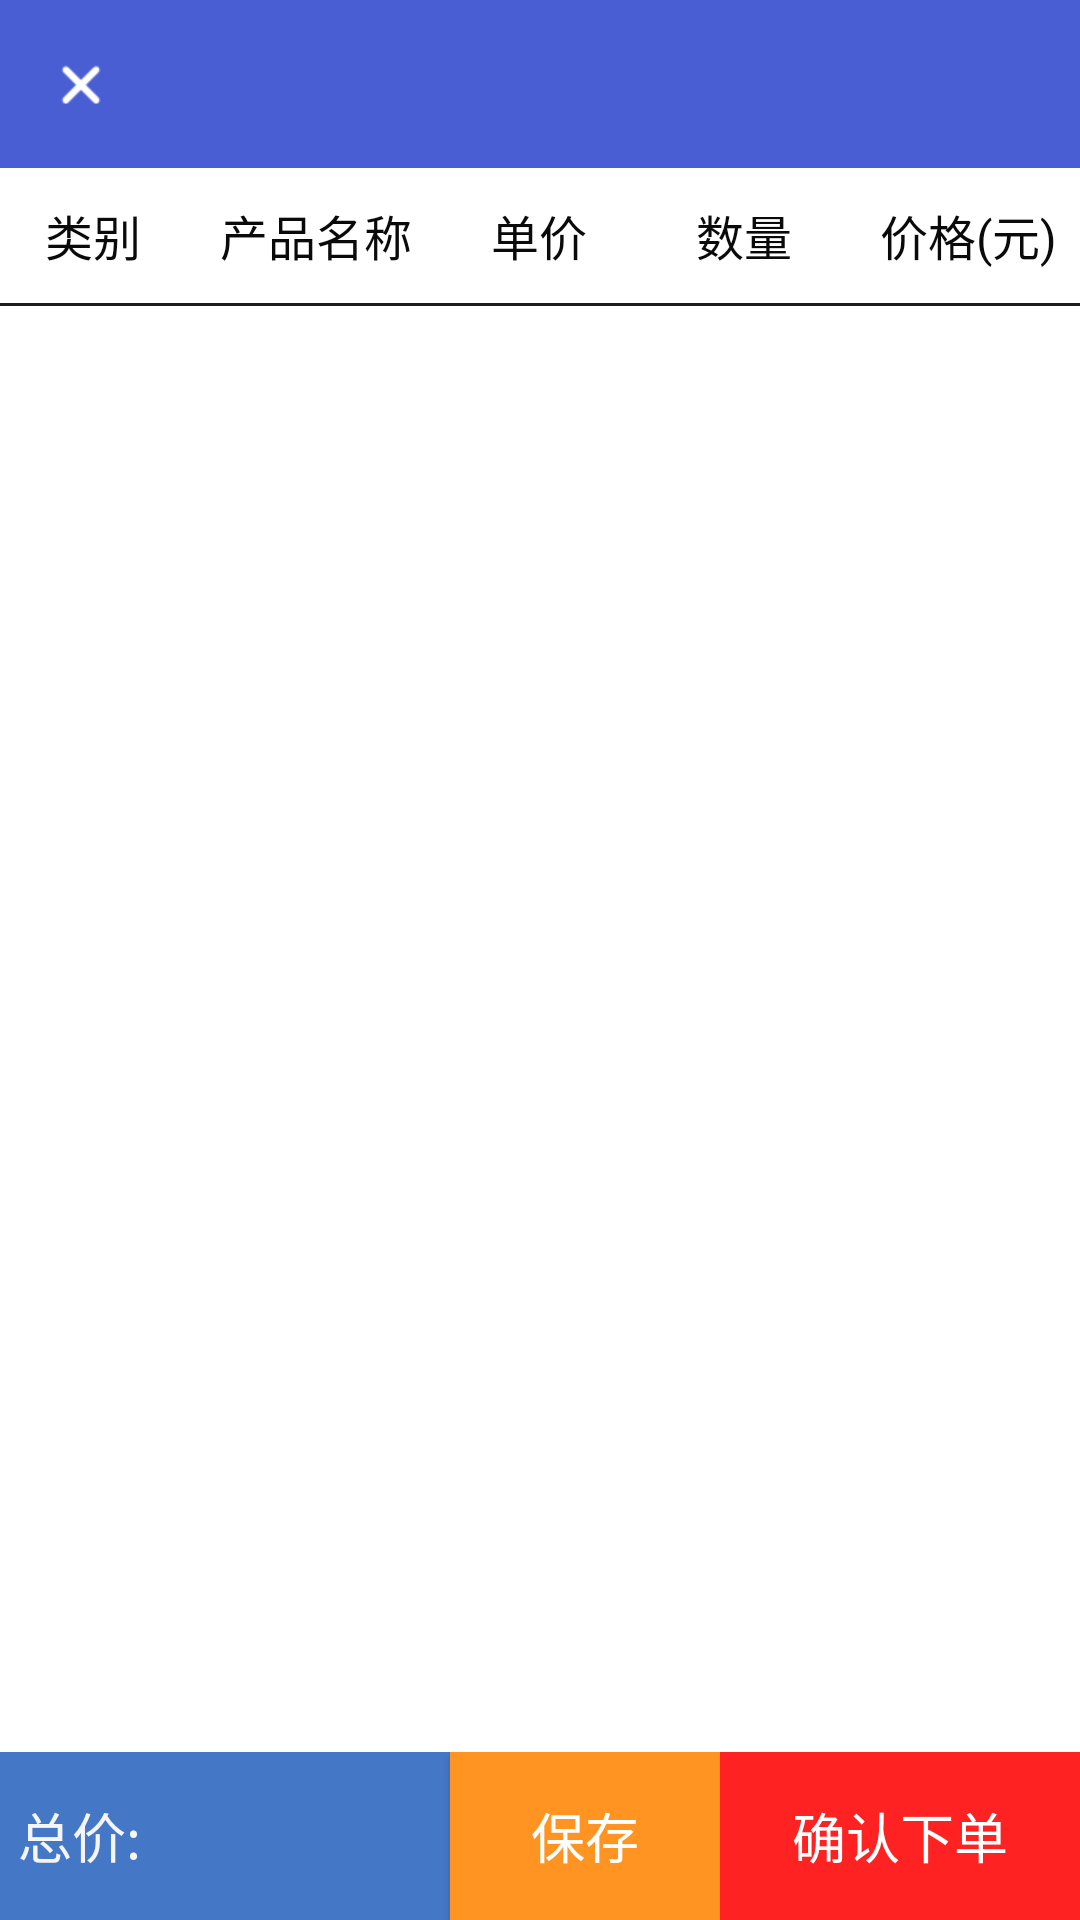

Icon click points for this 1080px×1920px phone screenshot, format [x,y]:
cancel: [81,85]
